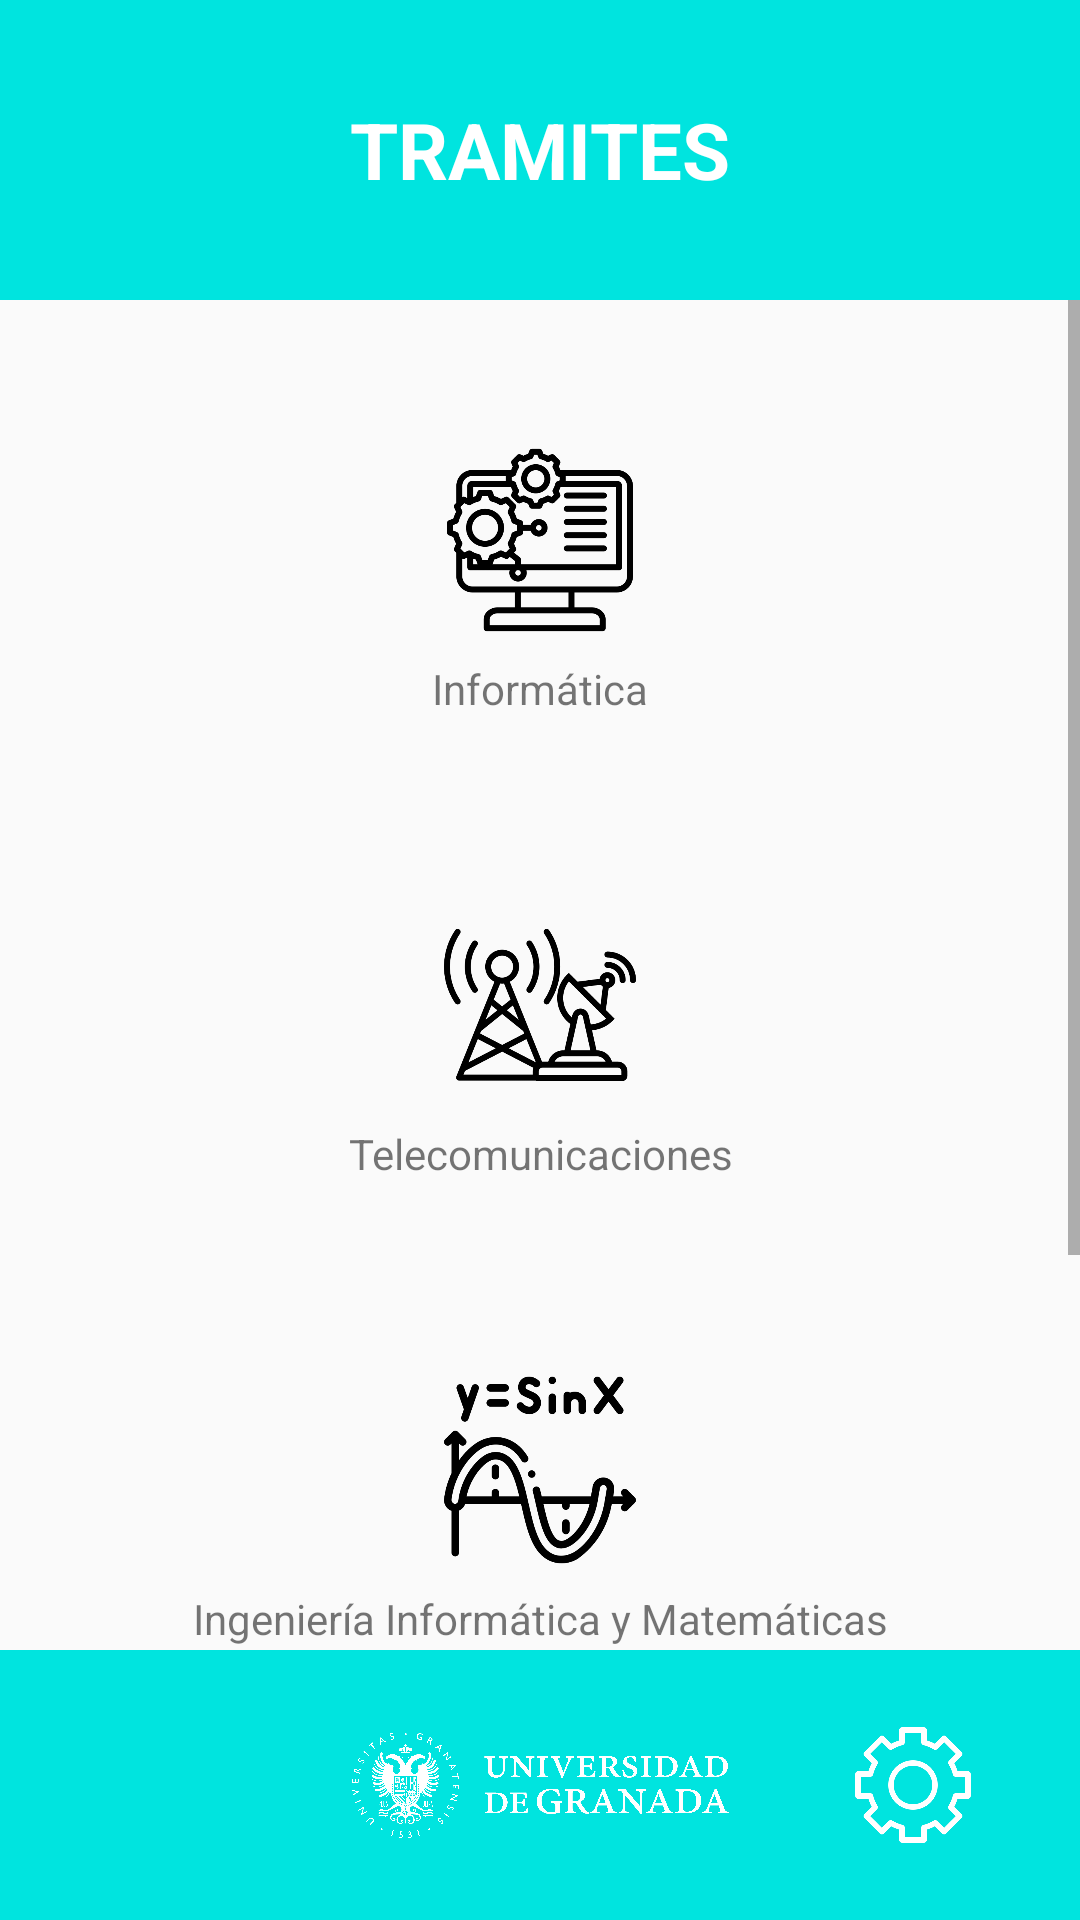

Icons on this 1080px x 1920px Android screen, each with the point to tap as (x=x, y=y):
Ajustes: (x=913, y=1785)
Consulta profesorado DGIIM: (x=540, y=1470)
